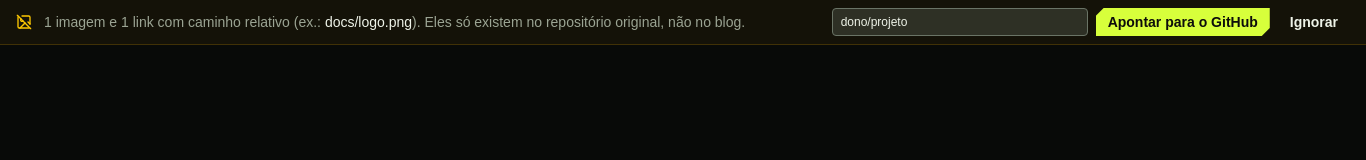
<RelativeMediaNotice /> › não altera o texto quando a imagem não existe em nenhum branch
Click the button "Apontar para o GitHub" at (1183, 22), box x1=1096 y1=8 x2=1270 y2=36
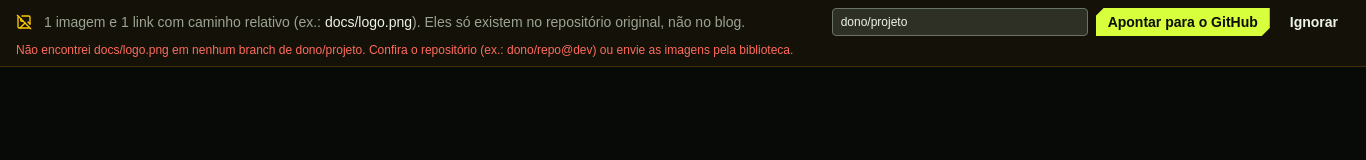
Expected: the message shows "Não encontrei docs/logo.png em nenhum branch de dono/projeto", x1=16 y1=43 x2=793 y2=57
